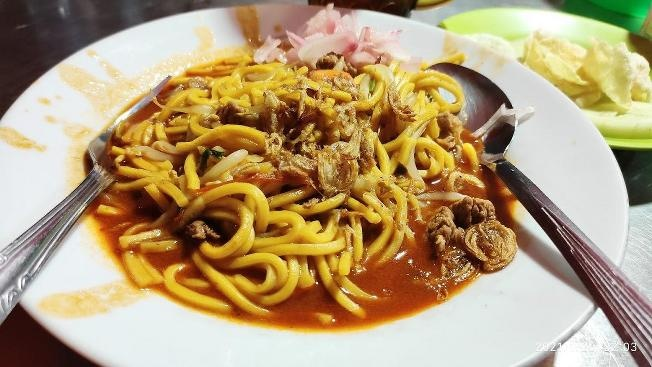mie_aceh: (112, 44, 483, 329)
